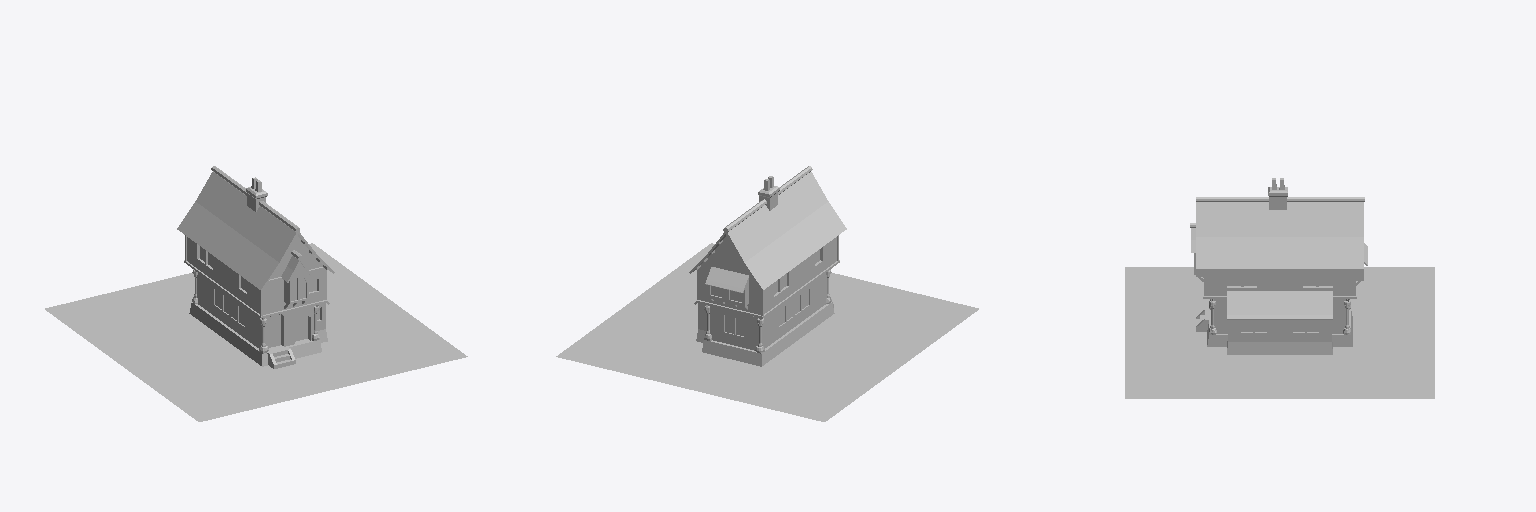
Rendered from House.obj.
3 renders of one model, left to right at view 1: azimuth 30°, elevation 25°; view 2: azimuth 150°, elevation 25°; view 3: azimuth 270°, elevation 25°, orthographic.
Visible parts, largest first — view 1: Plane, Cube.001; view 2: Plane, Cube.001; view 3: Plane, Cube.001.
Boxes of the visible parts, <box> form: Plane: <box>45,243,467,421</box>; Cube.001: <box>177,166,334,368</box>; Plane: <box>556,243,978,421</box>; Cube.001: <box>689,166,846,366</box>; Plane: <box>1125,267,1434,398</box>; Cube.001: <box>1190,178,1367,354</box>.
Bounding box in the file's own units: 16.12 × 8.8 × 16.12.